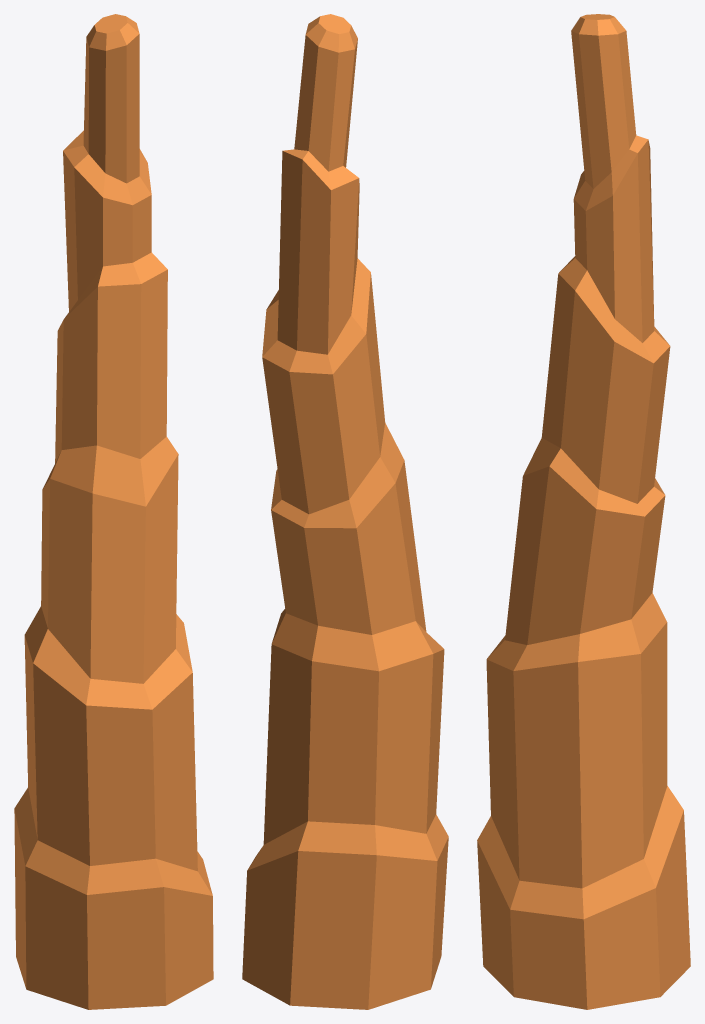
The model's file is TreeTrunk_50.fbx.
3 renders of one model, left to right at view 1: azimuth 30°, elevation 25°; view 2: azimuth 150°, elevation 25°; view 3: azimuth 270°, elevation 25°, orthographic.
Visible parts, largest first — view 1: TreeTrunk_50; view 2: TreeTrunk_50; view 3: TreeTrunk_50.
Part boxes in pixels (x1=…): TreeTrunk_50: x1=14, y1=14, x2=213, y2=1009; TreeTrunk_50: x1=242, y1=14, x2=448, y2=1009; TreeTrunk_50: x1=477, y1=14, x2=690, y2=1009.
Size of the model in its own units: 63.72 by 318 by 64.61.
